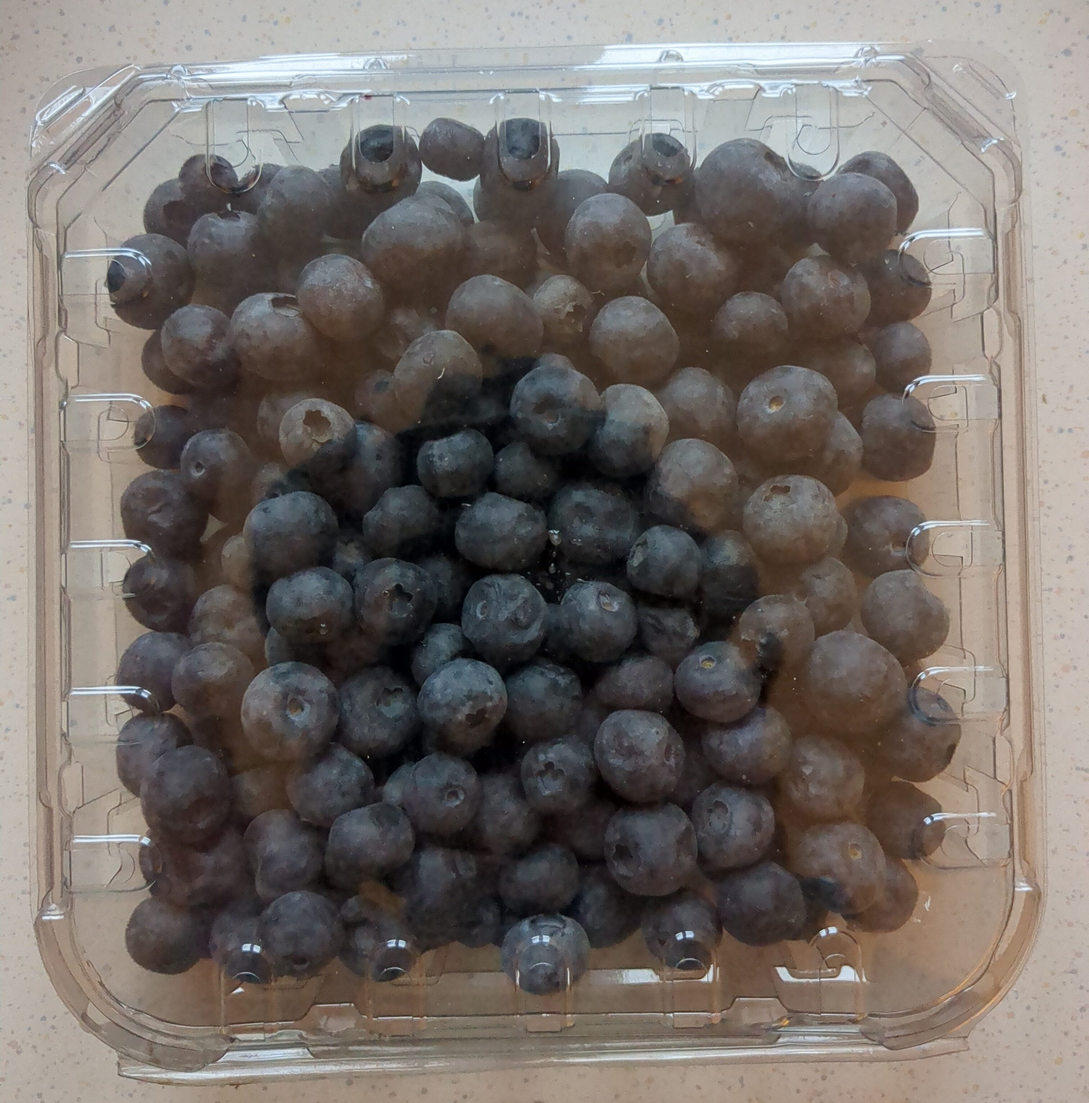Heidelbeeren Polen: (54, 55, 1035, 1048)
